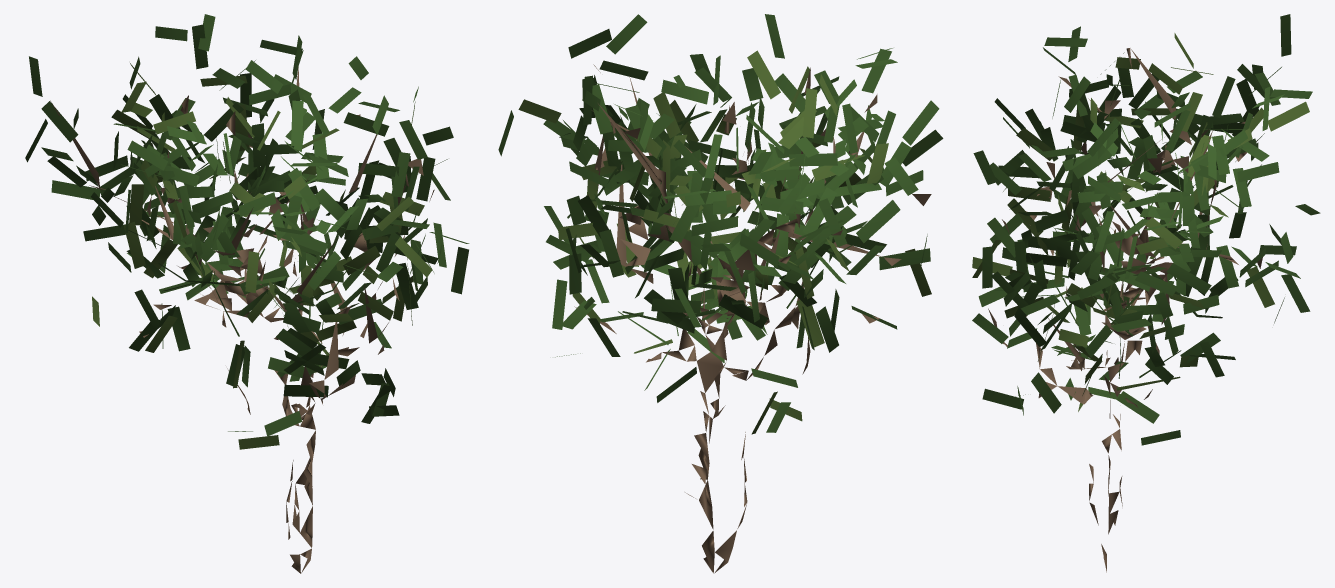
File: arvore_2_longe.glb
3 views of the same model, side by side, from view 1: azimuth 30°, elevation 25°; view 2: azimuth 150°, elevation 25°; view 3: azimuth 270°, elevation 25° (orthographic). The views are drawn at different scales.
Parts seen in each view (by area): view 1: arvore_2_longe; view 2: arvore_2_longe; view 3: arvore_2_longe.
Boxes of the visible parts, x1,y1,x2,y2 form: arvore_2_longe: (25, 14, 469, 573); arvore_2_longe: (498, 14, 943, 573); arvore_2_longe: (972, 14, 1320, 572).
Bounding box in the file's own units: 2.03 × 2.62 × 1.72.
